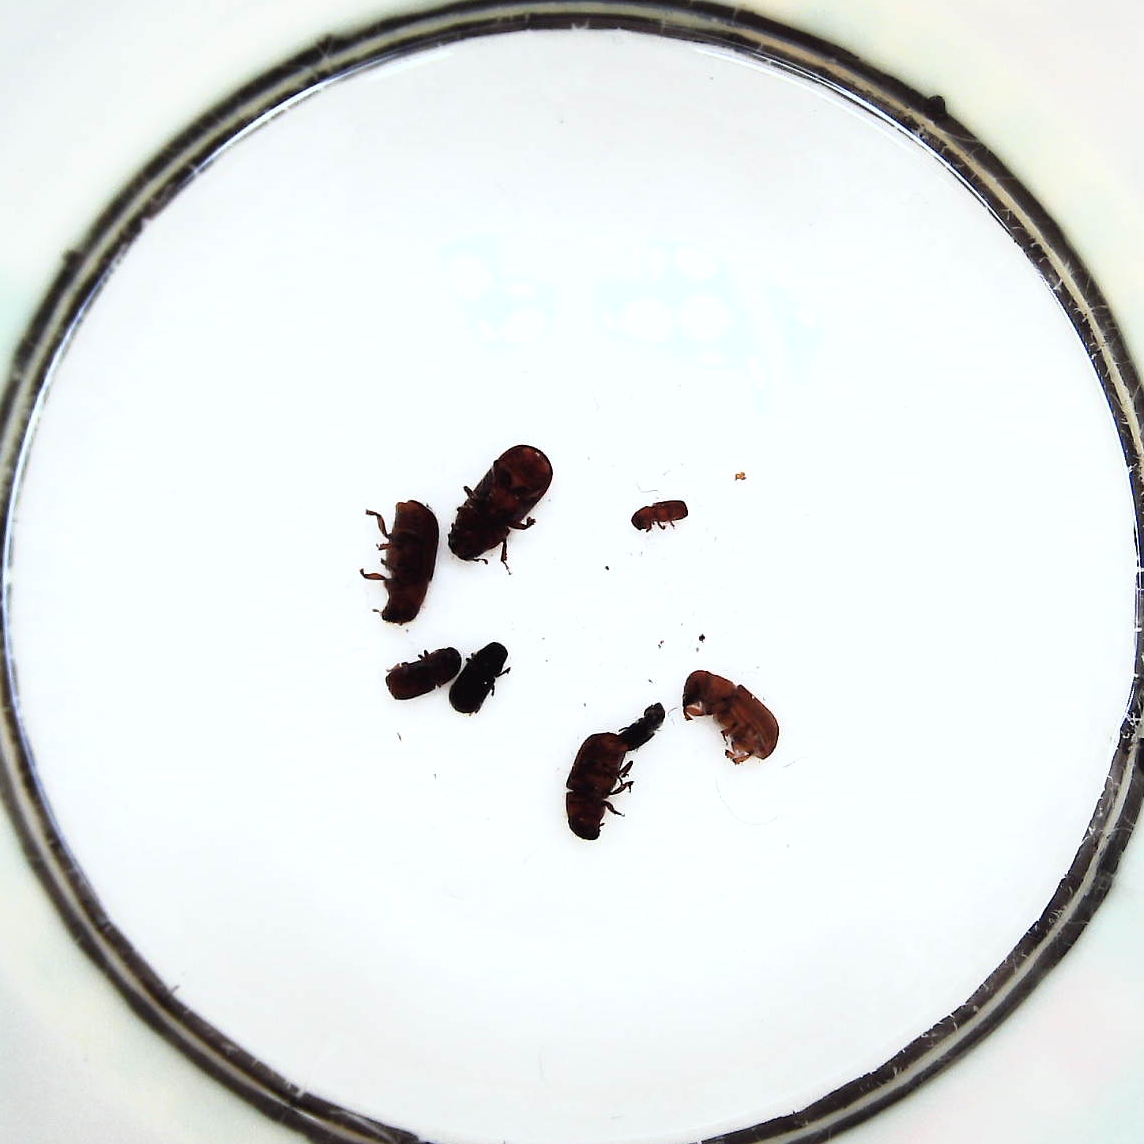Leconte: (443, 437, 556, 575), (361, 493, 441, 628), (679, 665, 780, 770), (563, 729, 636, 839)
Linnaeus: (384, 644, 461, 701)
acuminatus: (628, 498, 691, 531)
armandi: (452, 640, 515, 714)
coleoptera: (618, 700, 669, 747)
